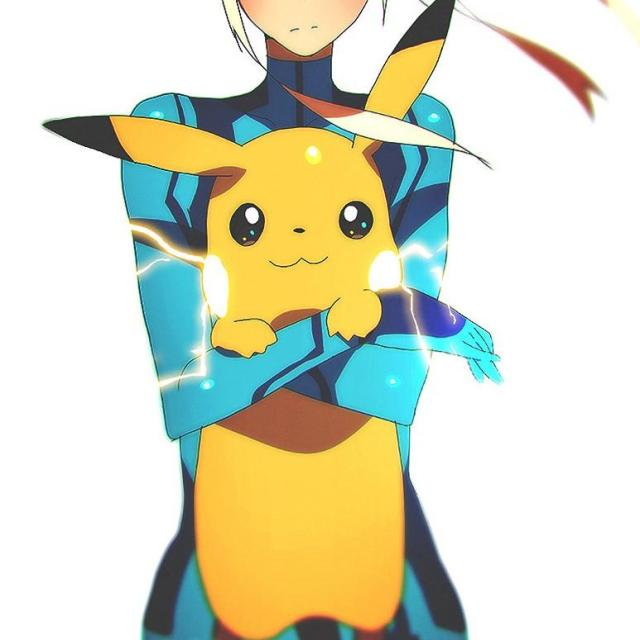pikachu: (44, 0, 456, 636)
